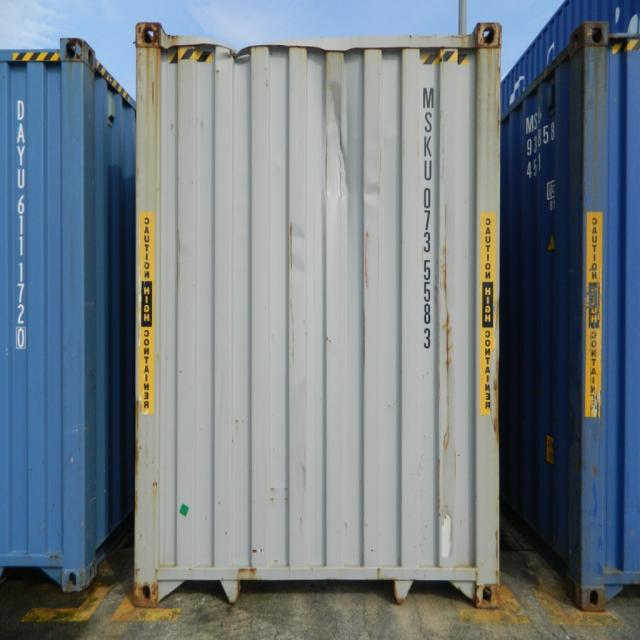dent: (325, 79, 355, 216), (287, 219, 314, 293), (365, 179, 381, 209)
